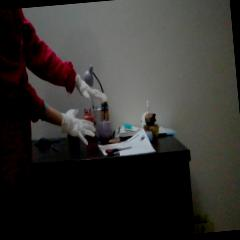gloved: (61, 107, 98, 146), (76, 70, 108, 107)
